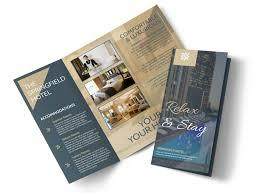paper: (15, 6, 231, 182)
